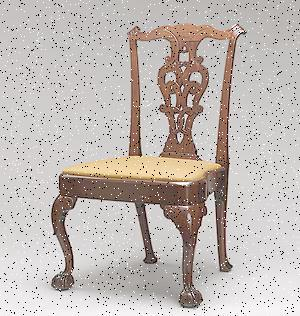Silla: (49, 23, 241, 310)
